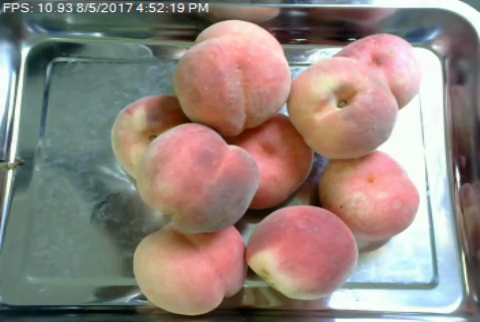Peach: (135, 121, 261, 232), (174, 18, 290, 136), (245, 205, 357, 299), (290, 59, 397, 157), (131, 224, 244, 315), (317, 150, 418, 236)
